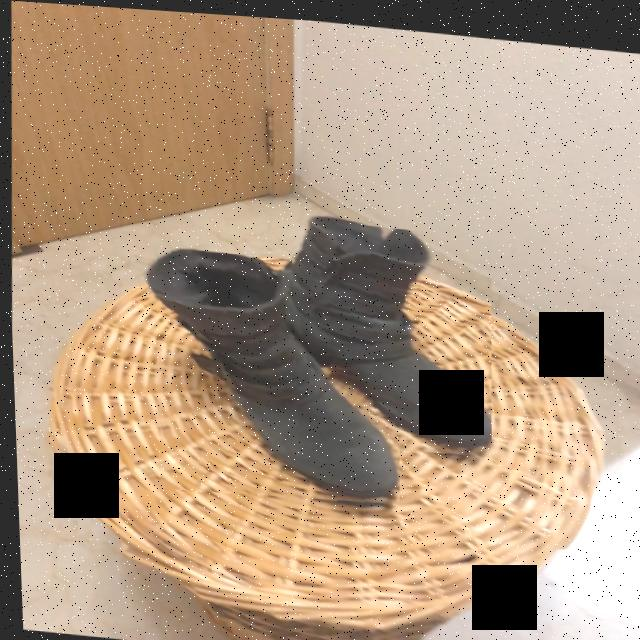shoe: (155, 248, 396, 499), (290, 216, 488, 451)
